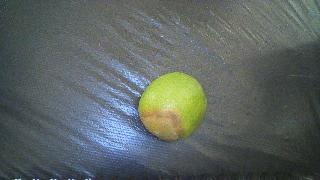DESECHO: (138, 72, 207, 141)
